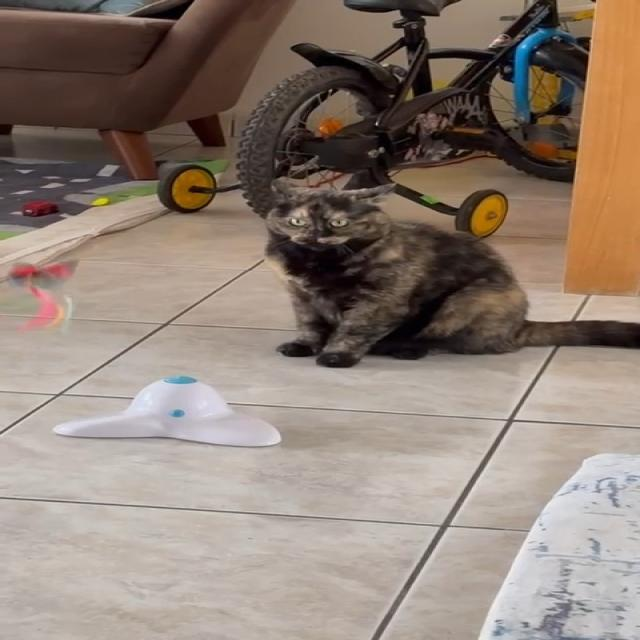authorized: (261, 176, 639, 368)
